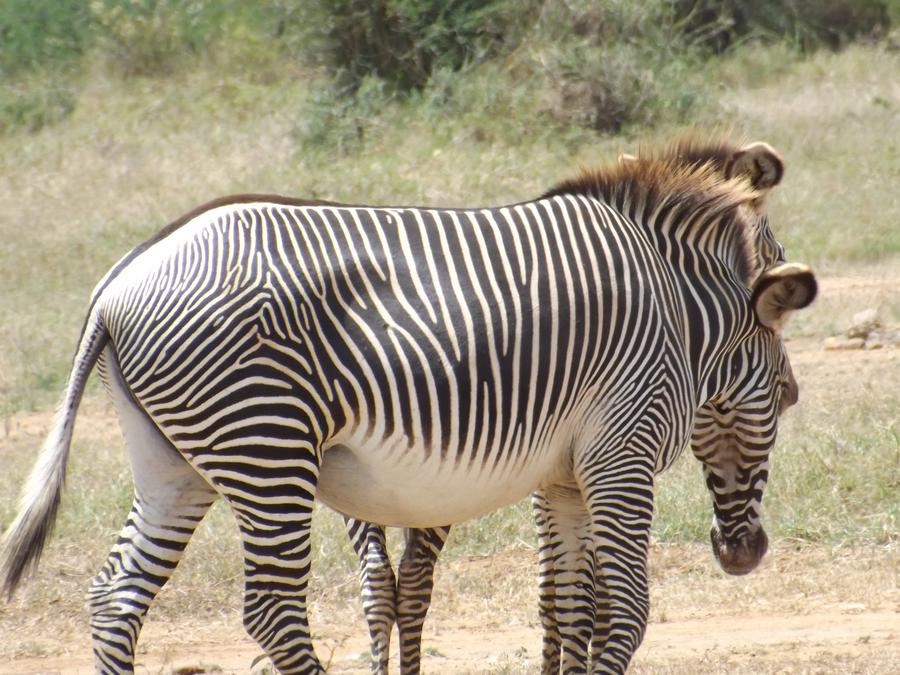zebra_grevys: (75, 202, 663, 474)
